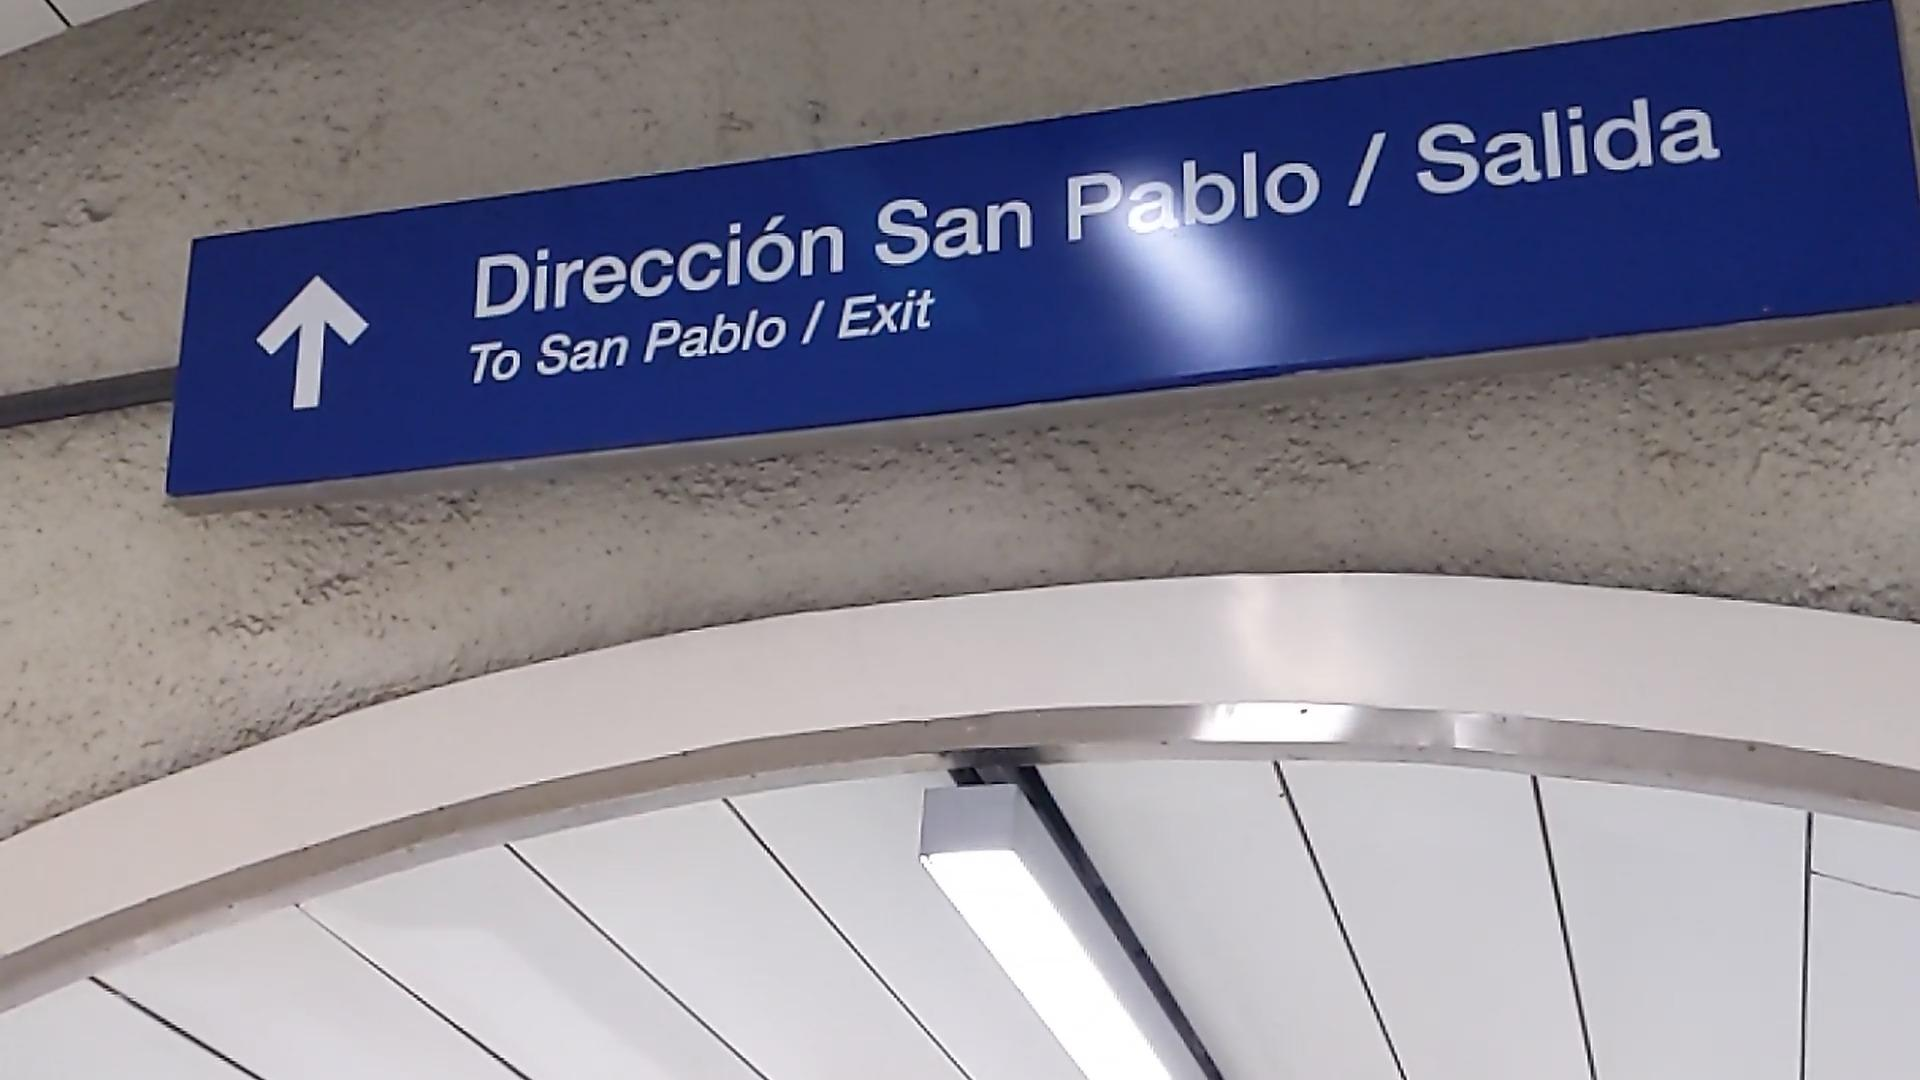up arrow: (249, 272, 376, 415)
